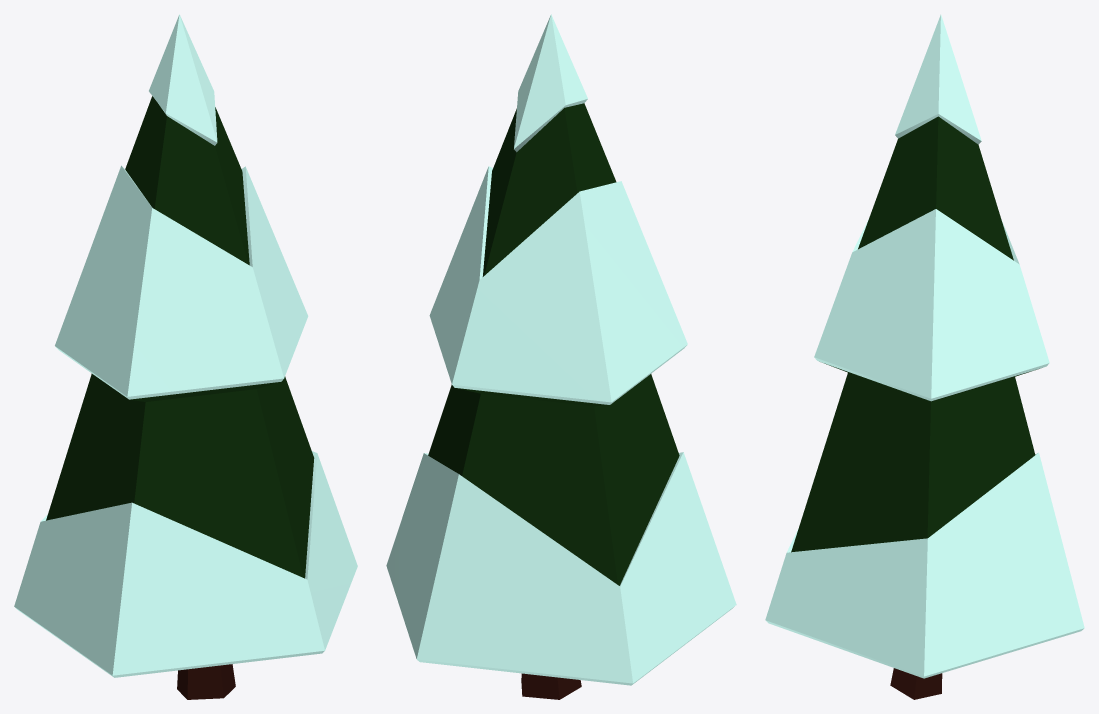
The model's file is Tree9.FBX.
The picture shows the model from 3 angles, left to right: view 1: azimuth 30°, elevation 25°; view 2: azimuth 150°, elevation 25°; view 3: azimuth 270°, elevation 25°; orthographic projection. The views are drawn at different scales.
Parts seen in each view (by area): view 1: Tree9_c, Tree9_a, Tree9_b; view 2: Tree9_c, Tree9_a, Tree9_b; view 3: Tree9_c, Tree9_a, Tree9_b.
Boxes of the visible parts, box(x1,y1,x2,y2) form: Tree9_c: box(14, 14, 357, 677); Tree9_a: box(46, 96, 314, 578); Tree9_b: box(177, 664, 235, 699); Tree9_c: box(386, 14, 736, 685); Tree9_a: box(428, 103, 679, 585); Tree9_b: box(521, 673, 581, 699); Tree9_c: box(765, 14, 1084, 678); Tree9_a: box(791, 116, 1039, 552); Tree9_b: box(890, 668, 942, 699).
Bounding box in the file's own units: 11036 × 24185 × 10508.
